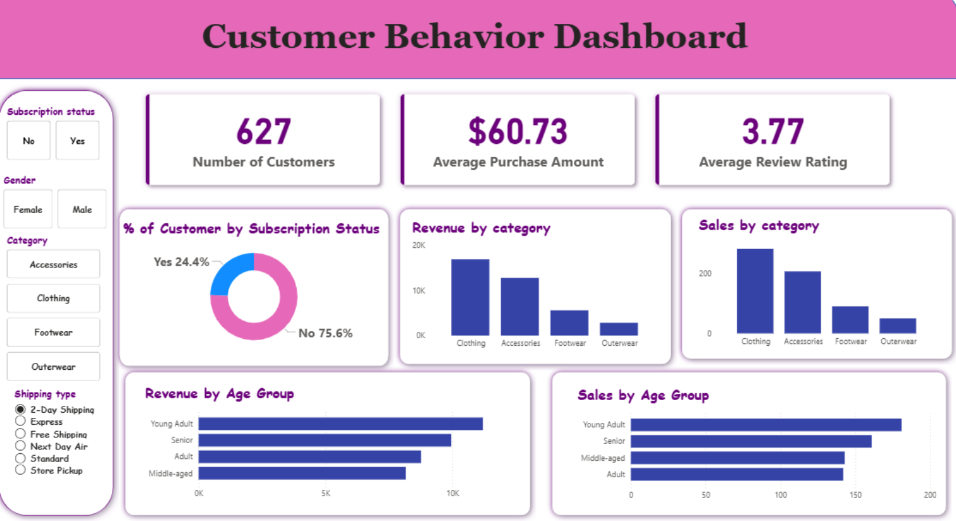

What the dashboard file says about the page in this screenshot:
{"tool":"powerbi","page":{"name":"Page 1","canvas":[1500,820],"ordinal":0},"visuals":[{"type":"cardVisual","fields":{"Data":["customer_behavior customer.Number of Customers","customer_behavior customer.Average Purchase Amount","customer_behavior customer.Average Review Rating"]},"box":[207.6,128.5,1216.1,199.2],"z":0},{"type":"shape","box":[0,0,1500,133.7],"z":1000},{"type":"textbox","box":[188.6,32.4,1121.5,71.8],"z":2000},{"type":"shape","box":[188.6,326.5,434.8,261.7],"z":3000},{"type":"donutChart","title":"% of Customer by Subscription Status","fields":{"Category":["customer_behavior customer.subscription_status"],"Y":["CountNonNull(customer_behavior customer.customer_id)"]},"box":[197,350.4,417.9,213.9],"z":4000},{"type":"shape","box":[623.4,326.5,439,258.9],"z":5000},{"type":"shape","box":[1062.4,326.5,437.6,250.5],"z":6000},{"type":"clusteredColumnChart","title":"Revenue by category","fields":{"Y":["Sum(customer_behavior customer.purchase_amount)"],"Category":["customer_behavior customer.category"]},"box":[645.9,349,394,213.9],"z":7000},{"type":"clusteredColumnChart","title":"Sales  by category","fields":{"Category":["customer_behavior customer.category"],"Y":["Count(customer_behavior customer.customer_id)"]},"box":[1091.9,344.7,379.9,213.9],"z":8000},{"type":"shape","box":[0,141.2,196.3,679.4],"z":9000},{"type":"advancedSlicerVisual","title":"Subscription status","fields":{"Values":["customer_behavior customer.subscription_status"]},"box":[16.9,173.7,155.4,91.8],"z":10000},{"type":"advancedSlicerVisual","title":"Gender","fields":{"Values":["customer_behavior customer.gender"]},"box":[11.1,279.9,171.3,91.9],"z":11000},{"type":"advancedSlicerVisual","title":"Category","fields":{"Values":["customer_behavior customer.category"]},"box":[16.9,372.9,155.4,235.9],"z":12000},{"type":"listSlicer","title":"Shipping type","fields":{"Values":["customer_behavior customer.shipping_type"]},"box":[27.9,611.4,139.3,186.6],"z":13000},{"type":"shape","box":[196.3,580.5,646.9,240.1],"z":13375},{"type":"clusteredBarChart","title":"Revenue by Age Group","fields":{"Y":["Sum(customer_behavior customer.purchase_amount)"],"Category":["customer_behavior customer.age_group"]},"box":[231.6,605.9,576.3,189.3],"z":13750},{"type":"shape","box":[860.2,580.5,629.9,240.1],"z":15000},{"type":"clusteredBarChart","title":"Sales by Age Group","fields":{"Category":["customer_behavior customer.age_group"],"Y":["CountNonNull(customer_behavior customer.customer_id)"]},"box":[904,608.8,567.8,189.3],"z":17000}]}

Visuals, with their boxes in screenshot pixels (x1, y1, x2, y2), scaled from the page's 1500x820 canvas onto the 956x521 screenshot:
cardVisual - customer_behavior customer.Number of Customers x customer_behavior customer.Average Purchase Amount: [x1=132, y1=82, x2=907, y2=208]
shape: [x1=0, y1=0, x2=955, y2=85]
textbox: [x1=120, y1=21, x2=835, y2=66]
shape: [x1=120, y1=207, x2=397, y2=374]
"% of Customer by Subscription Status" donutChart: [x1=126, y1=223, x2=392, y2=359]
shape: [x1=397, y1=207, x2=677, y2=372]
shape: [x1=677, y1=207, x2=955, y2=367]
"Revenue by category" clusteredColumnChart: [x1=412, y1=222, x2=663, y2=358]
"Sales  by category" clusteredColumnChart: [x1=696, y1=219, x2=938, y2=355]
shape: [x1=0, y1=90, x2=125, y2=520]
"Subscription status" advancedSlicerVisual: [x1=11, y1=110, x2=110, y2=169]
"Gender" advancedSlicerVisual: [x1=7, y1=178, x2=116, y2=236]
"Category" advancedSlicerVisual: [x1=11, y1=237, x2=110, y2=387]
"Shipping type" listSlicer: [x1=18, y1=388, x2=107, y2=507]
shape: [x1=125, y1=369, x2=537, y2=520]
"Revenue by Age Group" clusteredBarChart: [x1=148, y1=385, x2=515, y2=505]
shape: [x1=548, y1=369, x2=950, y2=520]
"Sales by Age Group" clusteredBarChart: [x1=576, y1=387, x2=938, y2=507]
